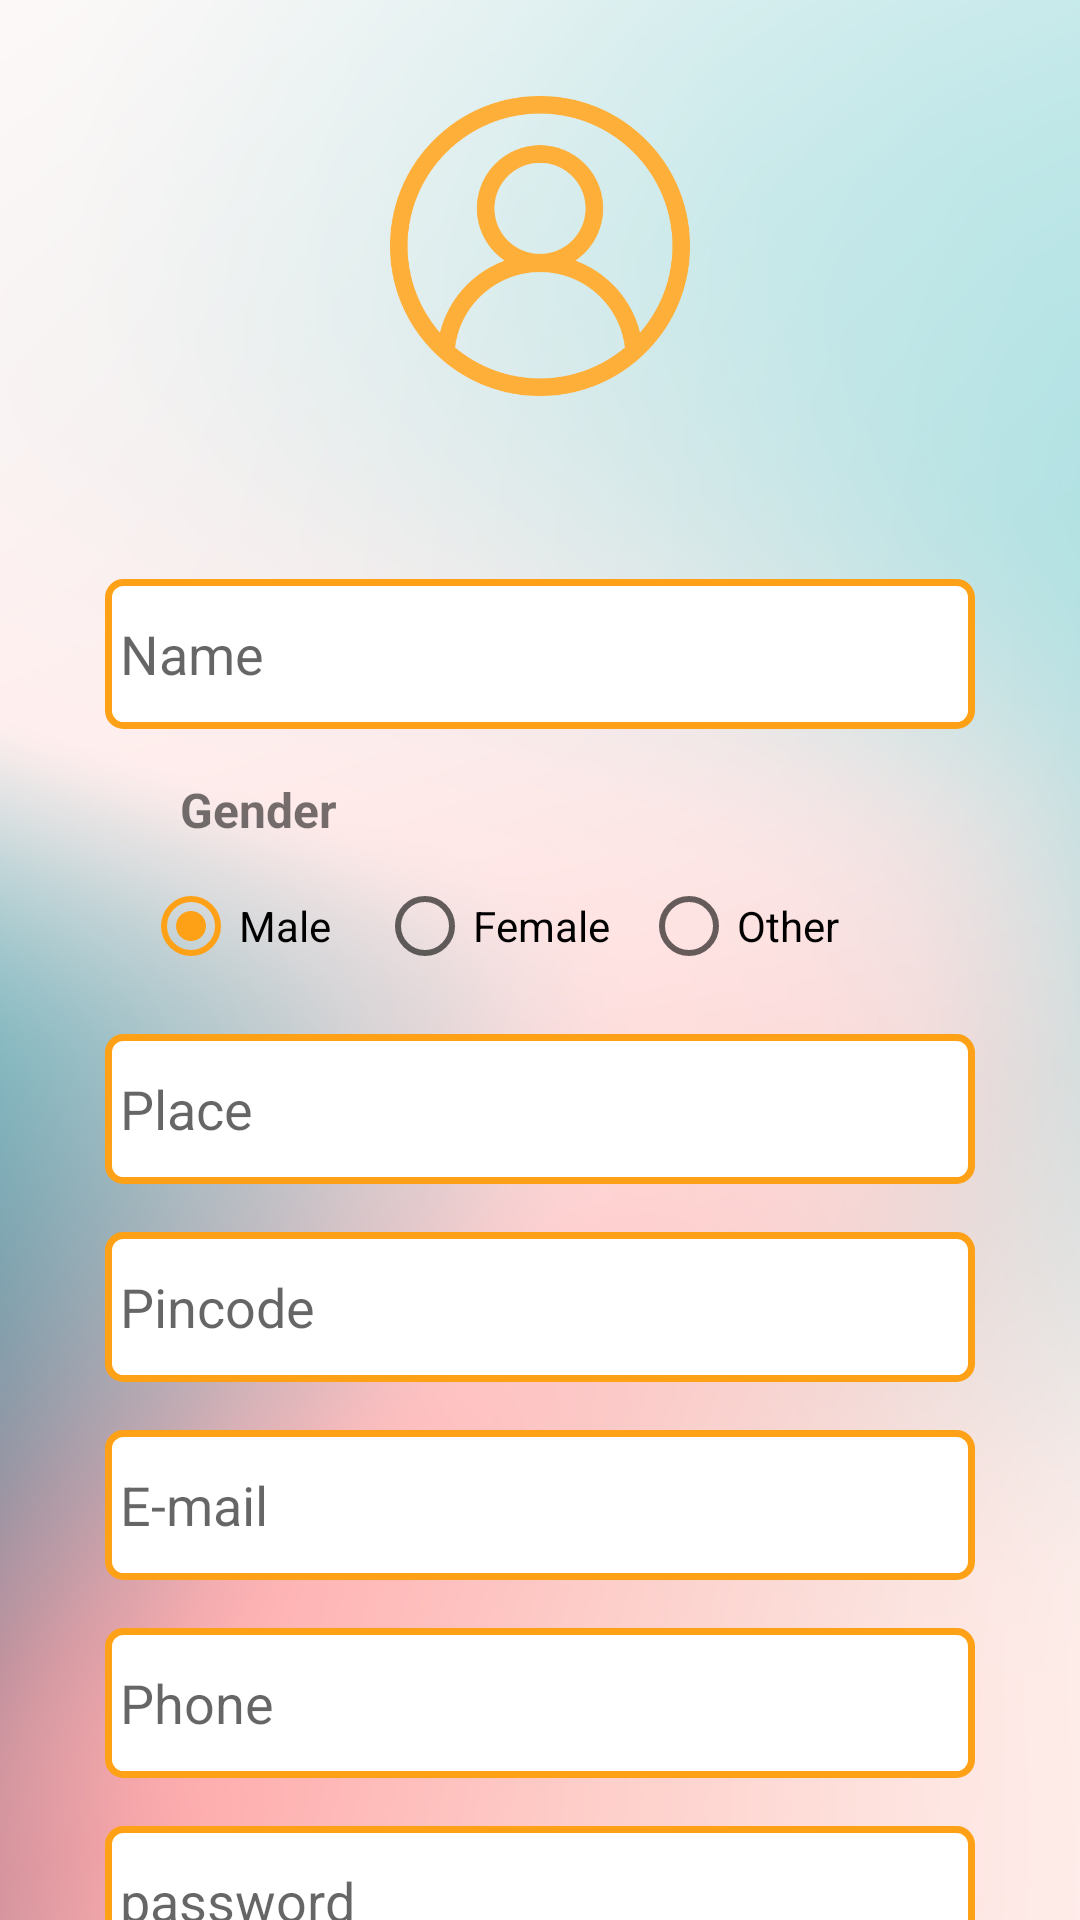

Named icons in this screenshot (1080px×1920px) and their bounding boxes, [x1, y1, x2, y2]:
register: [390, 96, 690, 396]
